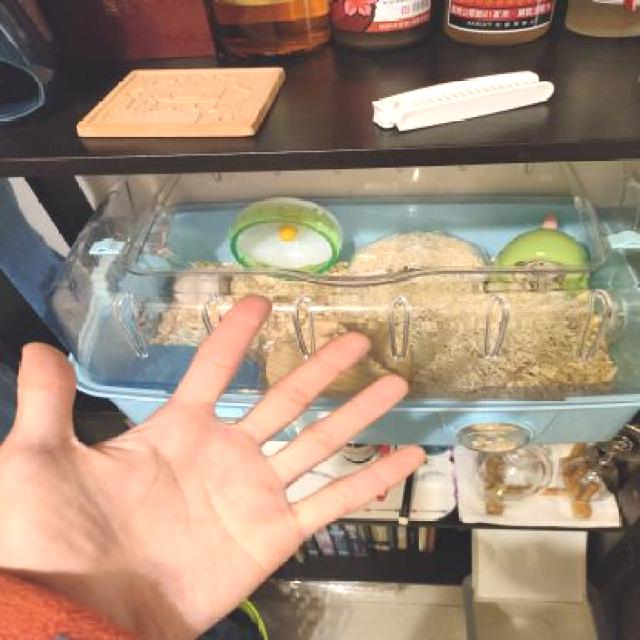no_glove: (2, 284, 436, 638)
